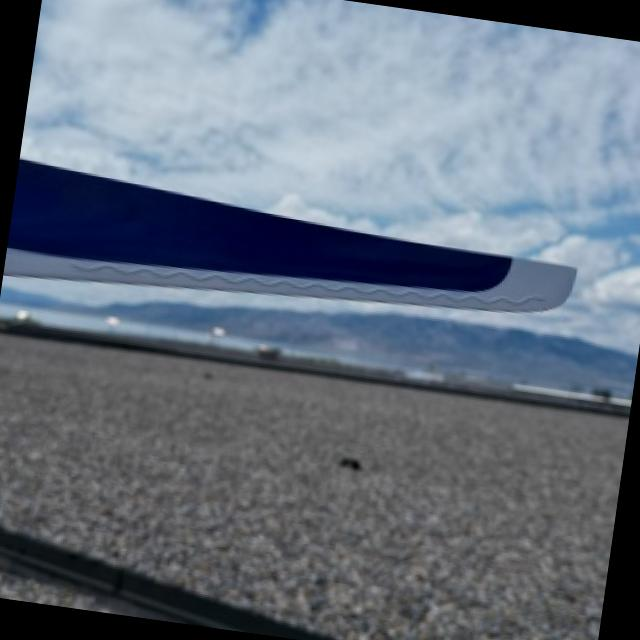healthy: (3, 159, 572, 309)
